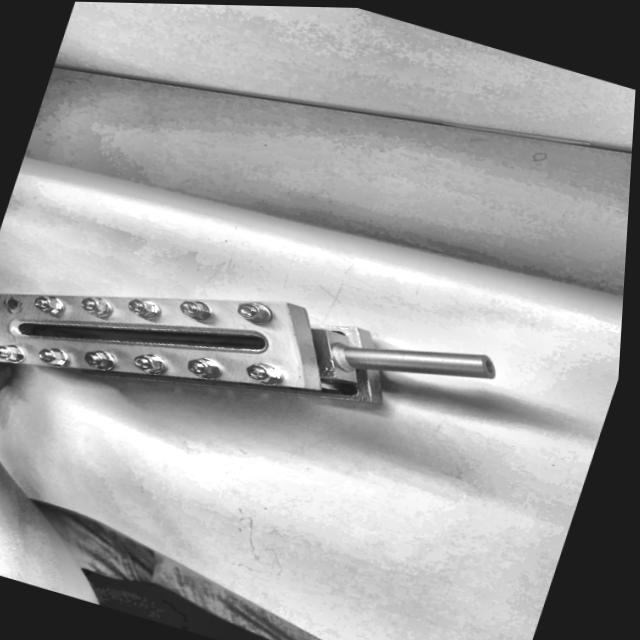ShuiWeiQi_11: (0, 210, 518, 503)
